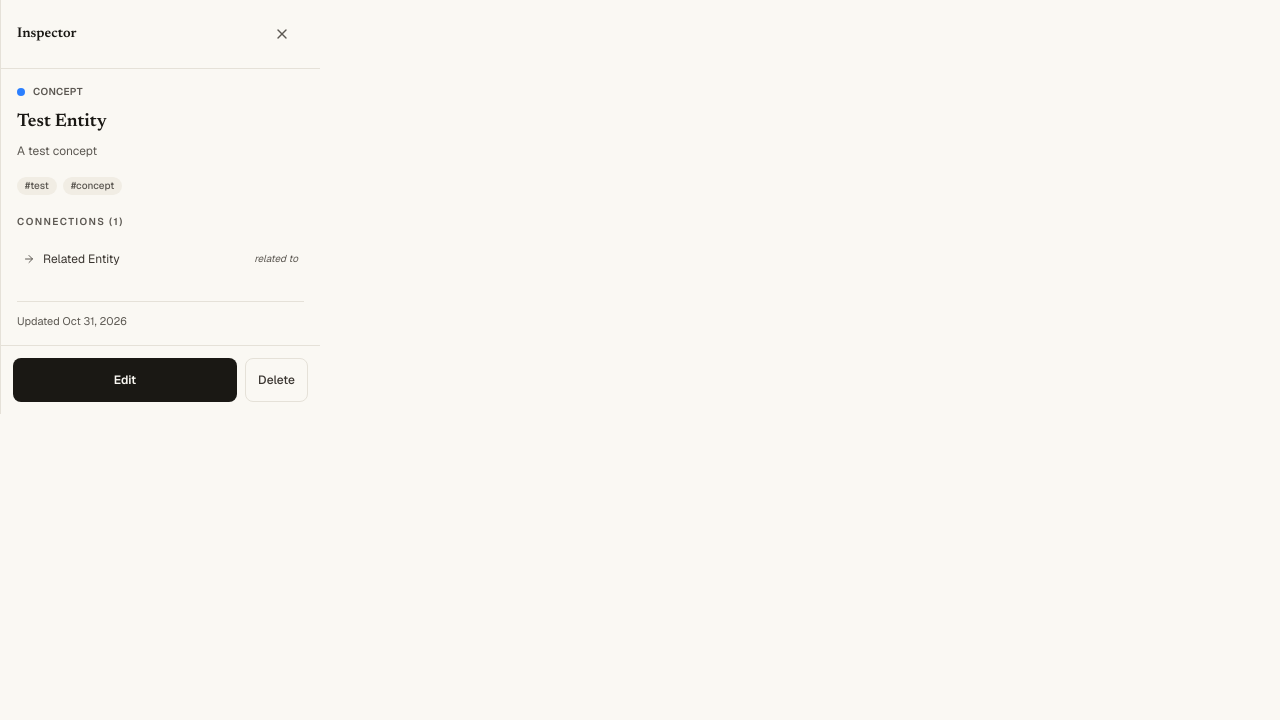
Scenario: RightPanel › shows delete confirm dialog on Delete click
This screenshot has width=1280, height=720.
Click the button "Delete" at (277, 380), box x1=245 y1=358 x2=308 y2=402
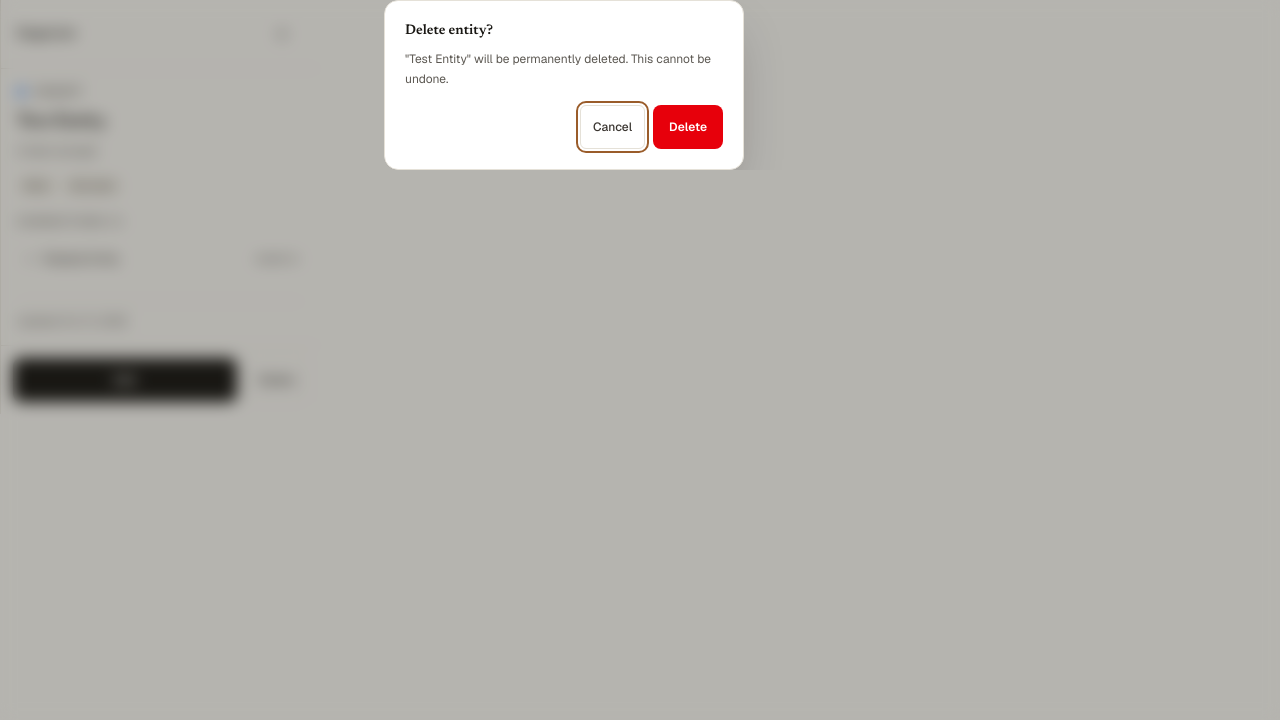
expect the heading "Delete entity?" is shown: met, box x1=405 y1=24 x2=493 y2=38
